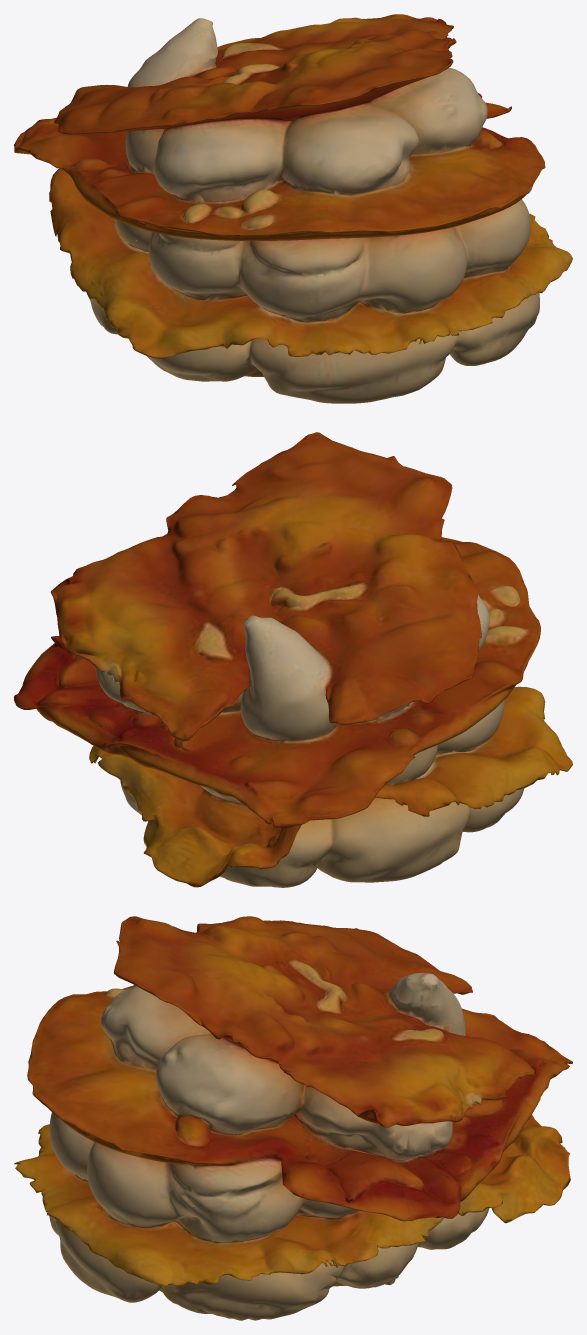
File: mille-feuille.glb
The picture shows the model from 3 angles, top to bottom: view 1: azimuth 30°, elevation 25°; view 2: azimuth 150°, elevation 25°; view 3: azimuth 270°, elevation 25°; orthographic projection.
Visible parts, largest first — view 1: tripo_node_9879ccf8-b029-4f5a-815d-a11b0158ce1c; view 2: tripo_node_9879ccf8-b029-4f5a-815d-a11b0158ce1c; view 3: tripo_node_9879ccf8-b029-4f5a-815d-a11b0158ce1c.
Boxes of the visible parts, x1,y1,x2,y2 form: tripo_node_9879ccf8-b029-4f5a-815d-a11b0158ce1c: (14,14,572,403); tripo_node_9879ccf8-b029-4f5a-815d-a11b0158ce1c: (14,432,572,887); tripo_node_9879ccf8-b029-4f5a-815d-a11b0158ce1c: (14,916,572,1320).
Size of the model in its own units: 0.8871 by 0.582 by 0.9807.
1 material, 1 textured.
